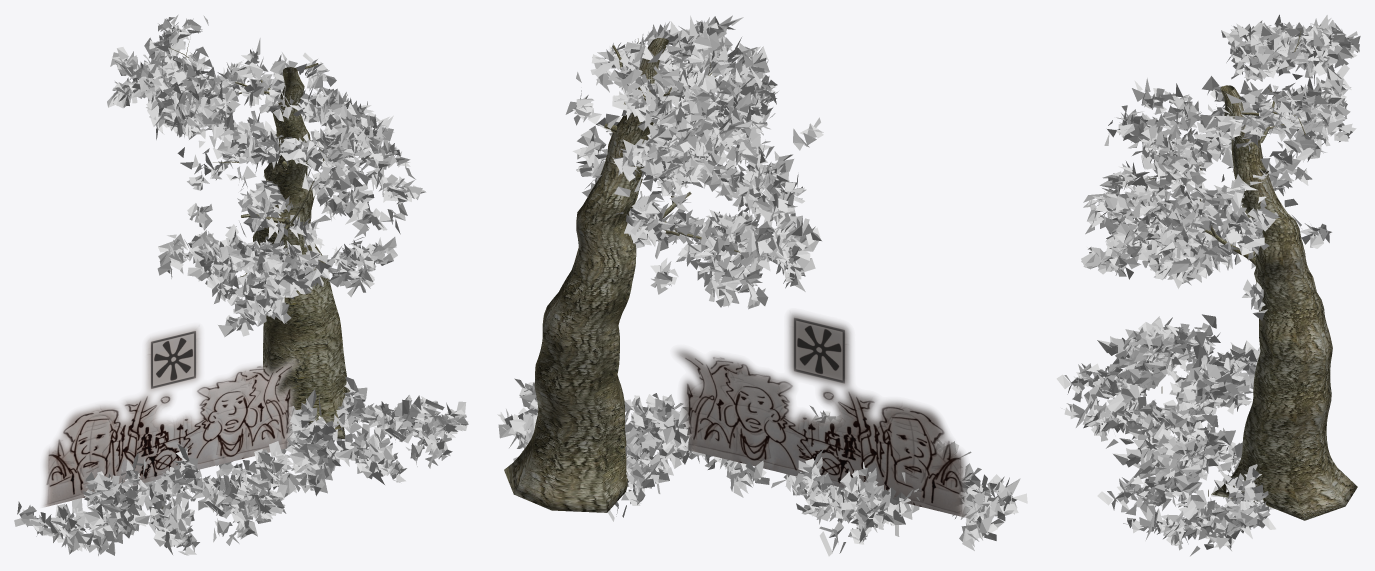
File: graffiti-animado-v4.glb
The picture shows the model from 3 angles, left to right: view 1: azimuth 30°, elevation 25°; view 2: azimuth 150°, elevation 25°; view 3: azimuth 270°, elevation 25°; orthographic projection. The views are drawn at different scales.
Visible parts, largest first — view 1: 45K, zacimba-tittle.001, 45K.002, 45K.003; view 2: 45K, zacimba-tittle.001, 45K.002, 45K.003; view 3: 45K, 45K.002, 45K.003.
Boxes of the visible parts, x1,y1,x2,y2 form: 45K: [107, 14, 425, 439]; zacimba-tittle.001: [42, 325, 301, 507]; 45K.002: [14, 444, 287, 555]; 45K.003: [216, 376, 468, 497]; 45K: [504, 15, 823, 512]; zacimba-tittle.001: [674, 311, 967, 517]; 45K.002: [771, 405, 1027, 556]; 45K.003: [497, 378, 769, 521]; 45K: [1081, 14, 1360, 520]; 45K.002: [1056, 314, 1260, 448]; 45K.003: [1097, 415, 1275, 556].
Size of the model in its own units: 7 by 6.56 by 4.11.
3 materials, 2 textured.
